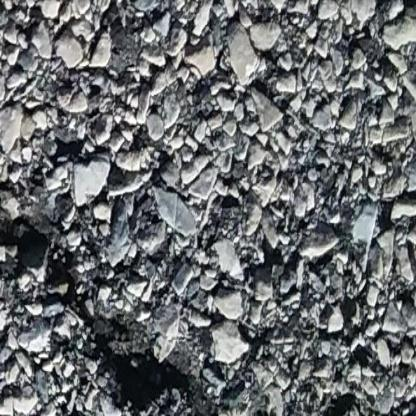Cracks: (0, 181, 283, 416), (320, 390, 362, 416), (375, 400, 416, 416)
